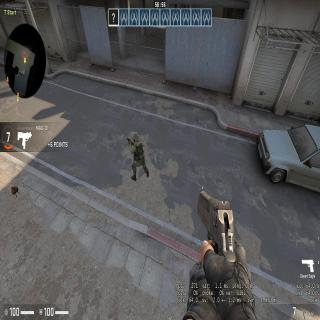CT-Body: (130, 129, 147, 170)
CT-Head: (132, 132, 140, 144)
